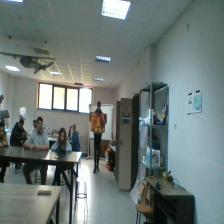fire-poster: (91, 113, 105, 132)
